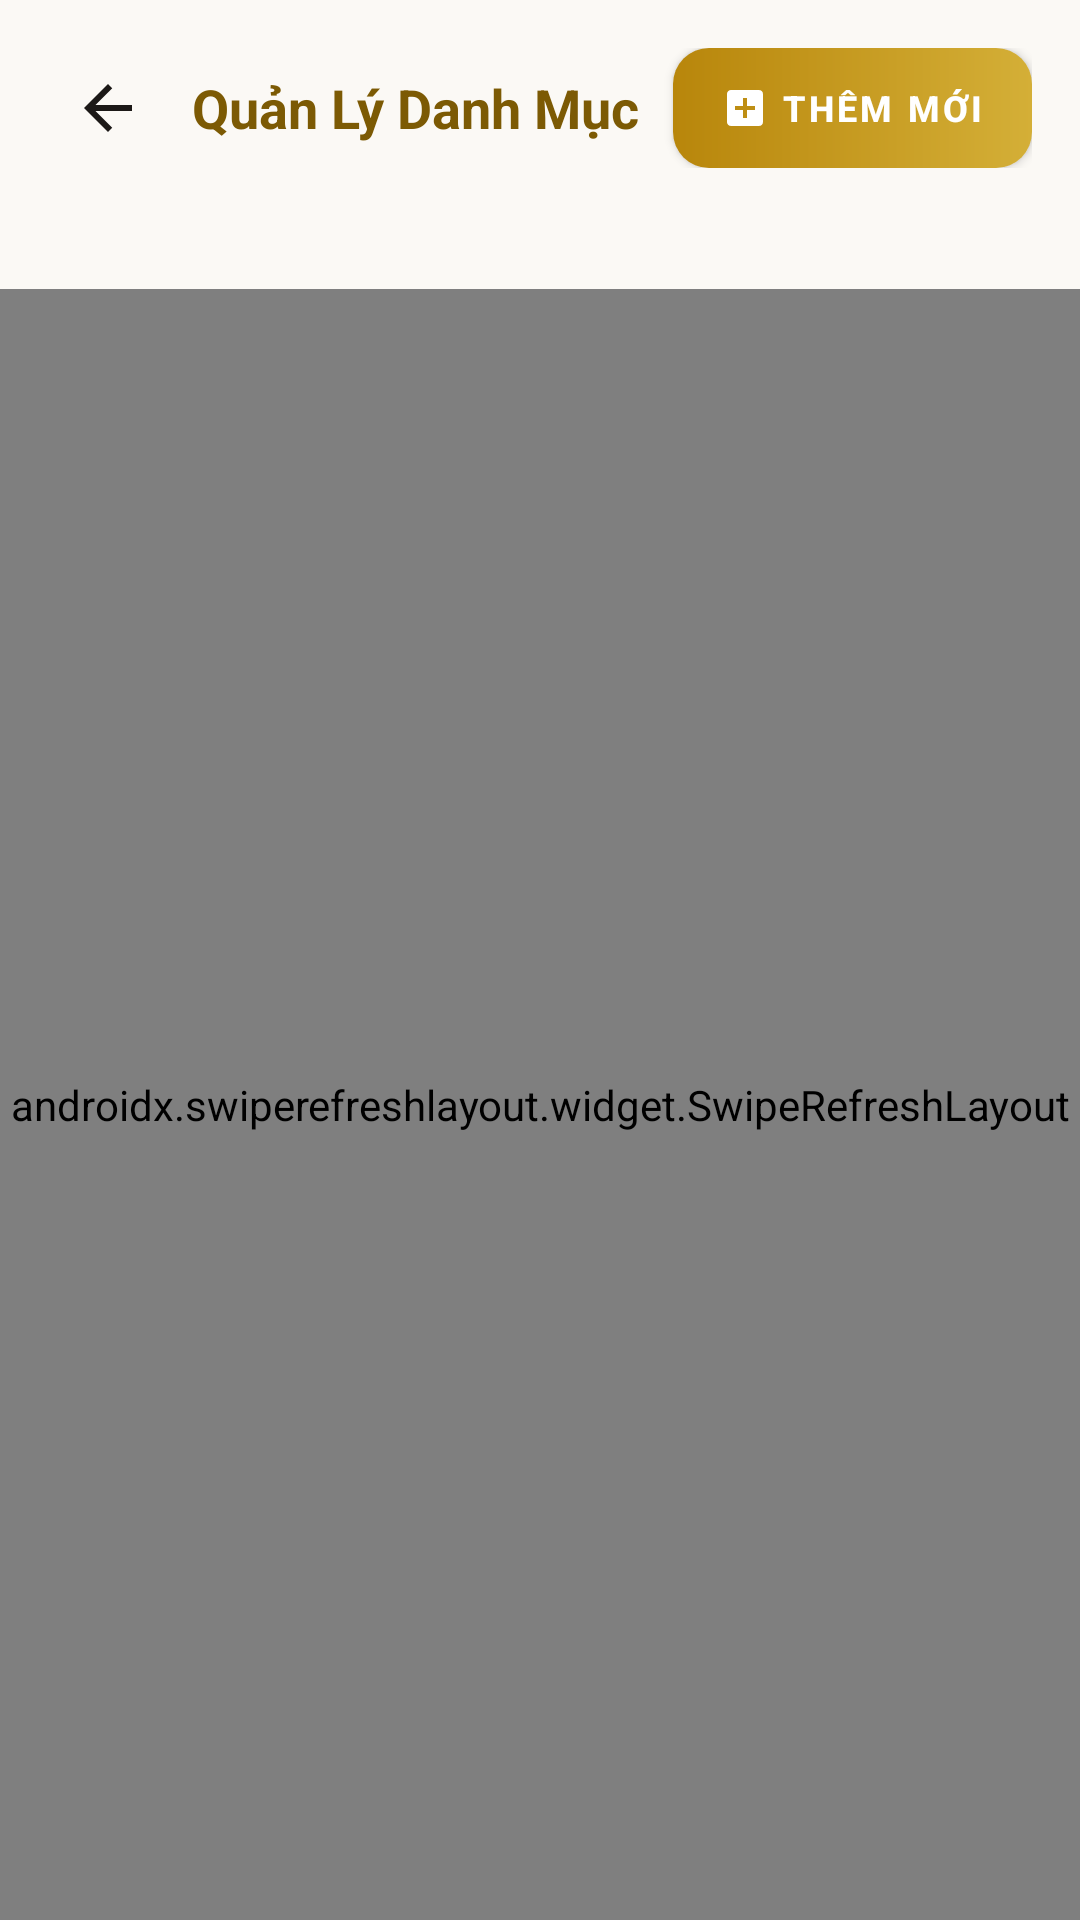

Where icons sit on this 1080 × 1920 app screen, as (x1, y1, x2, y2):
Quay lại: (84, 84, 132, 132)
